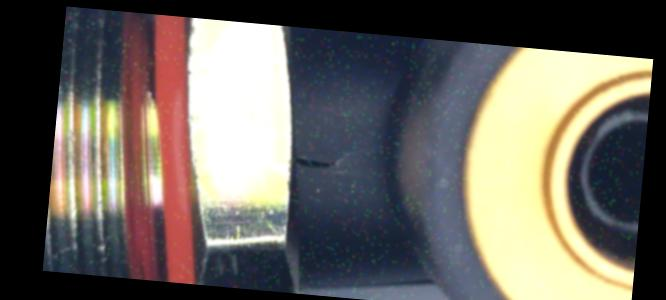craze: (288, 153, 331, 174)
white mark: (332, 149, 350, 170)
